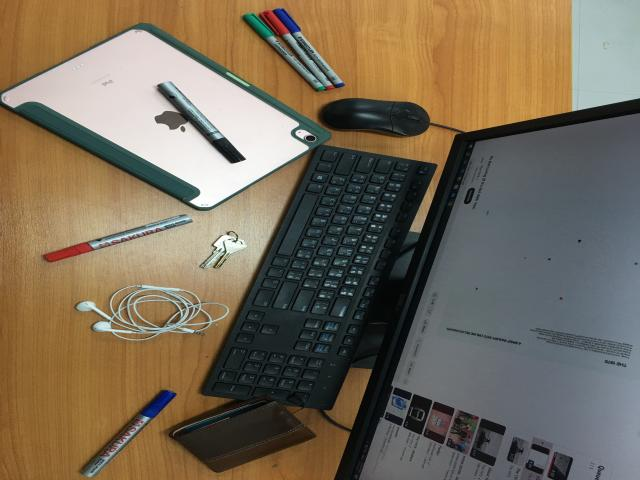Keys: (198, 231, 248, 272)
Mouse: (317, 99, 432, 138)
Pen: (241, 9, 344, 93), (81, 391, 178, 480), (156, 82, 246, 165), (43, 216, 194, 264)
Wallet: (168, 400, 315, 473)
wire: (75, 285, 212, 343)
